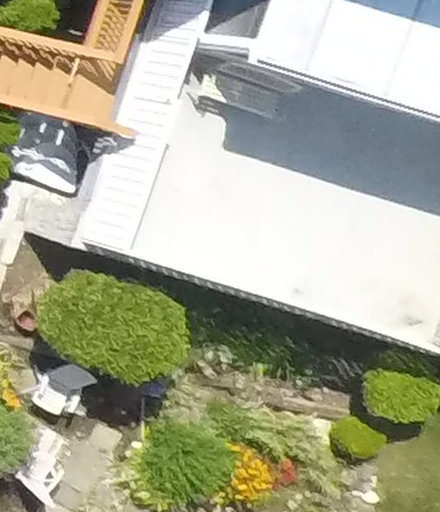container: (10, 302, 48, 336)
